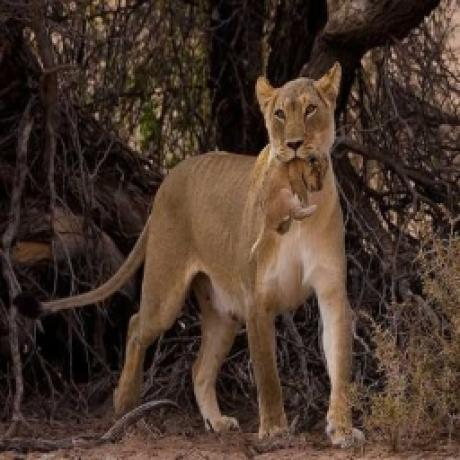Lion: (9, 61, 362, 449), (246, 152, 332, 254)
